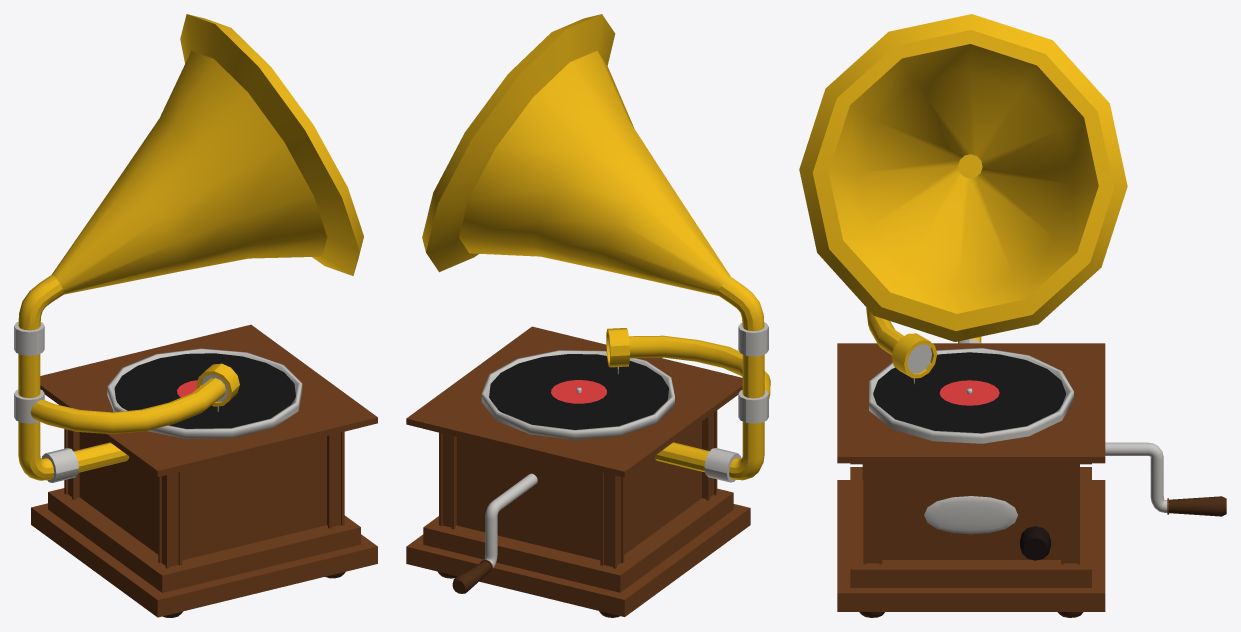
The model's file is Gramofono.fbx.
The picture shows the model from 3 angles, left to right: view 1: azimuth 30°, elevation 25°; view 2: azimuth 150°, elevation 25°; view 3: azimuth 270°, elevation 25°; orthographic projection. The views are drawn at different scales.
Parts seen in each view (by area): view 1: Campana, Base, Vinilo, Rodamiento_Vinilo; view 2: Campana, Base, Vinilo, Rodamiento_Vinilo, Manivela; view 3: Campana, Base, Vinilo, Rodamiento_Vinilo, Chapa, Manivela, Rueda_Volumen.
Part boxes in pixels (bbox=[...]): Campana: bbox=[14, 14, 363, 482]; Base: bbox=[31, 324, 377, 617]; Vinilo: bbox=[114, 353, 295, 428]; Rodamiento_Vinilo: bbox=[107, 348, 302, 438]; Campana: bbox=[422, 14, 770, 482]; Base: bbox=[406, 326, 750, 617]; Vinilo: bbox=[489, 354, 668, 429]; Rodamiento_Vinilo: bbox=[481, 350, 674, 439]; Manivela: bbox=[452, 473, 537, 593]; Campana: bbox=[799, 14, 1127, 384]; Base: bbox=[837, 343, 1105, 617]; Vinilo: bbox=[873, 352, 1065, 433]; Rodamiento_Vinilo: bbox=[869, 348, 1073, 443]; Chapa: bbox=[924, 496, 1017, 534]; Manivela: bbox=[1105, 442, 1226, 516]; Rueda_Volumen: bbox=[1020, 526, 1050, 560].
Size of the model in its own units: 400 by 657 by 452.
